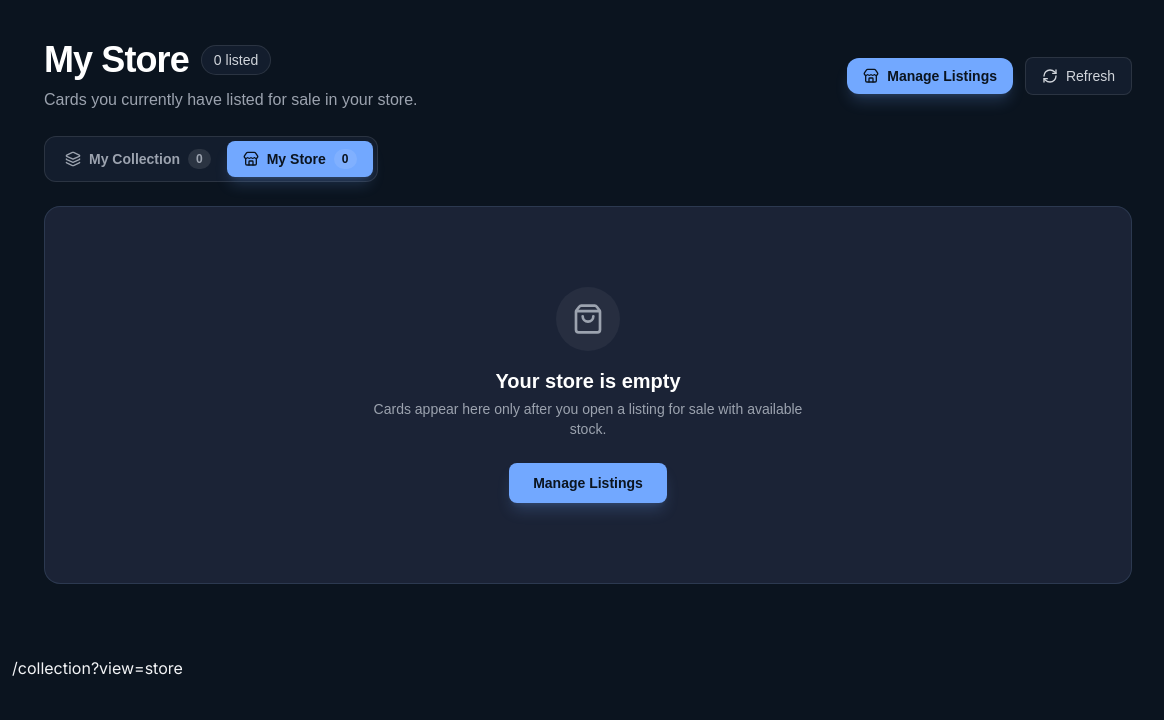
Test: MyCollectionPage seller collection/store toggle › returns a seller to My Collection and removes the store query parameter
Check: the heading "My Store" is shown, box x1=44 y1=40 x2=189 y2=80
What coordinates should you click on to do the following:
click the tab "My Collection 0"
I would click on:
 (138, 159)
Its box is x1=49 y1=141 x2=227 y2=177.
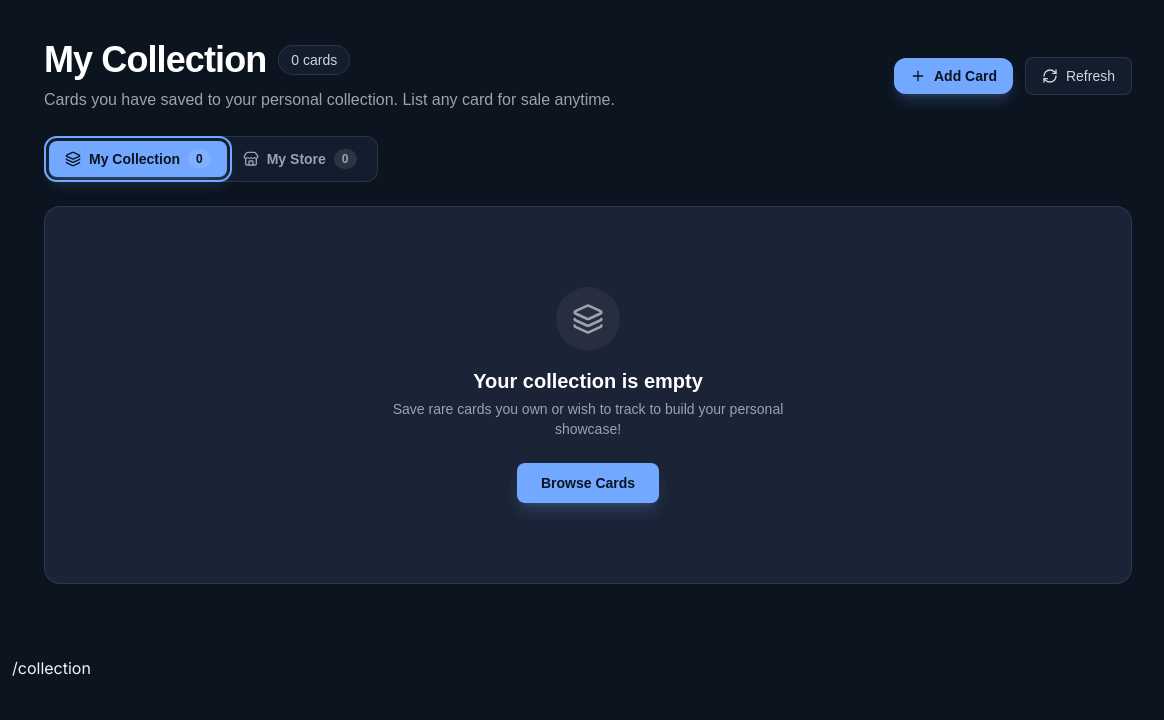
Check: the text with test id "location" reads "/collection", box x1=12 y1=658 x2=91 y2=678
Check: the heading "My Collection" is shown, box x1=44 y1=40 x2=266 y2=80
